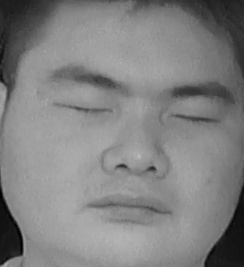blink: (58, 90, 110, 124), (175, 100, 223, 133)
mouth: (85, 184, 171, 230)
